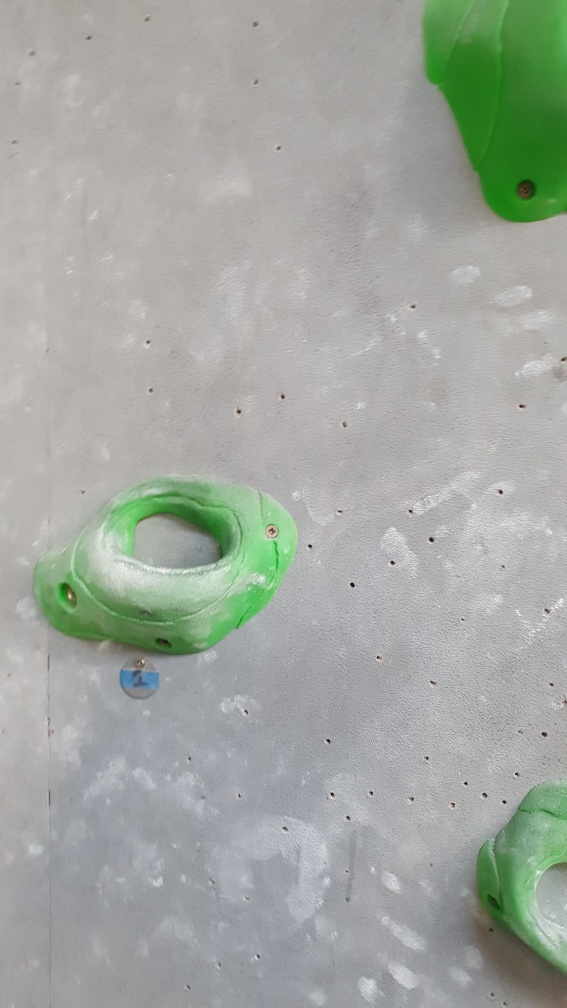Hand Start: (113, 652, 164, 703)
Pocket: (30, 462, 305, 660), (473, 782, 567, 984)
